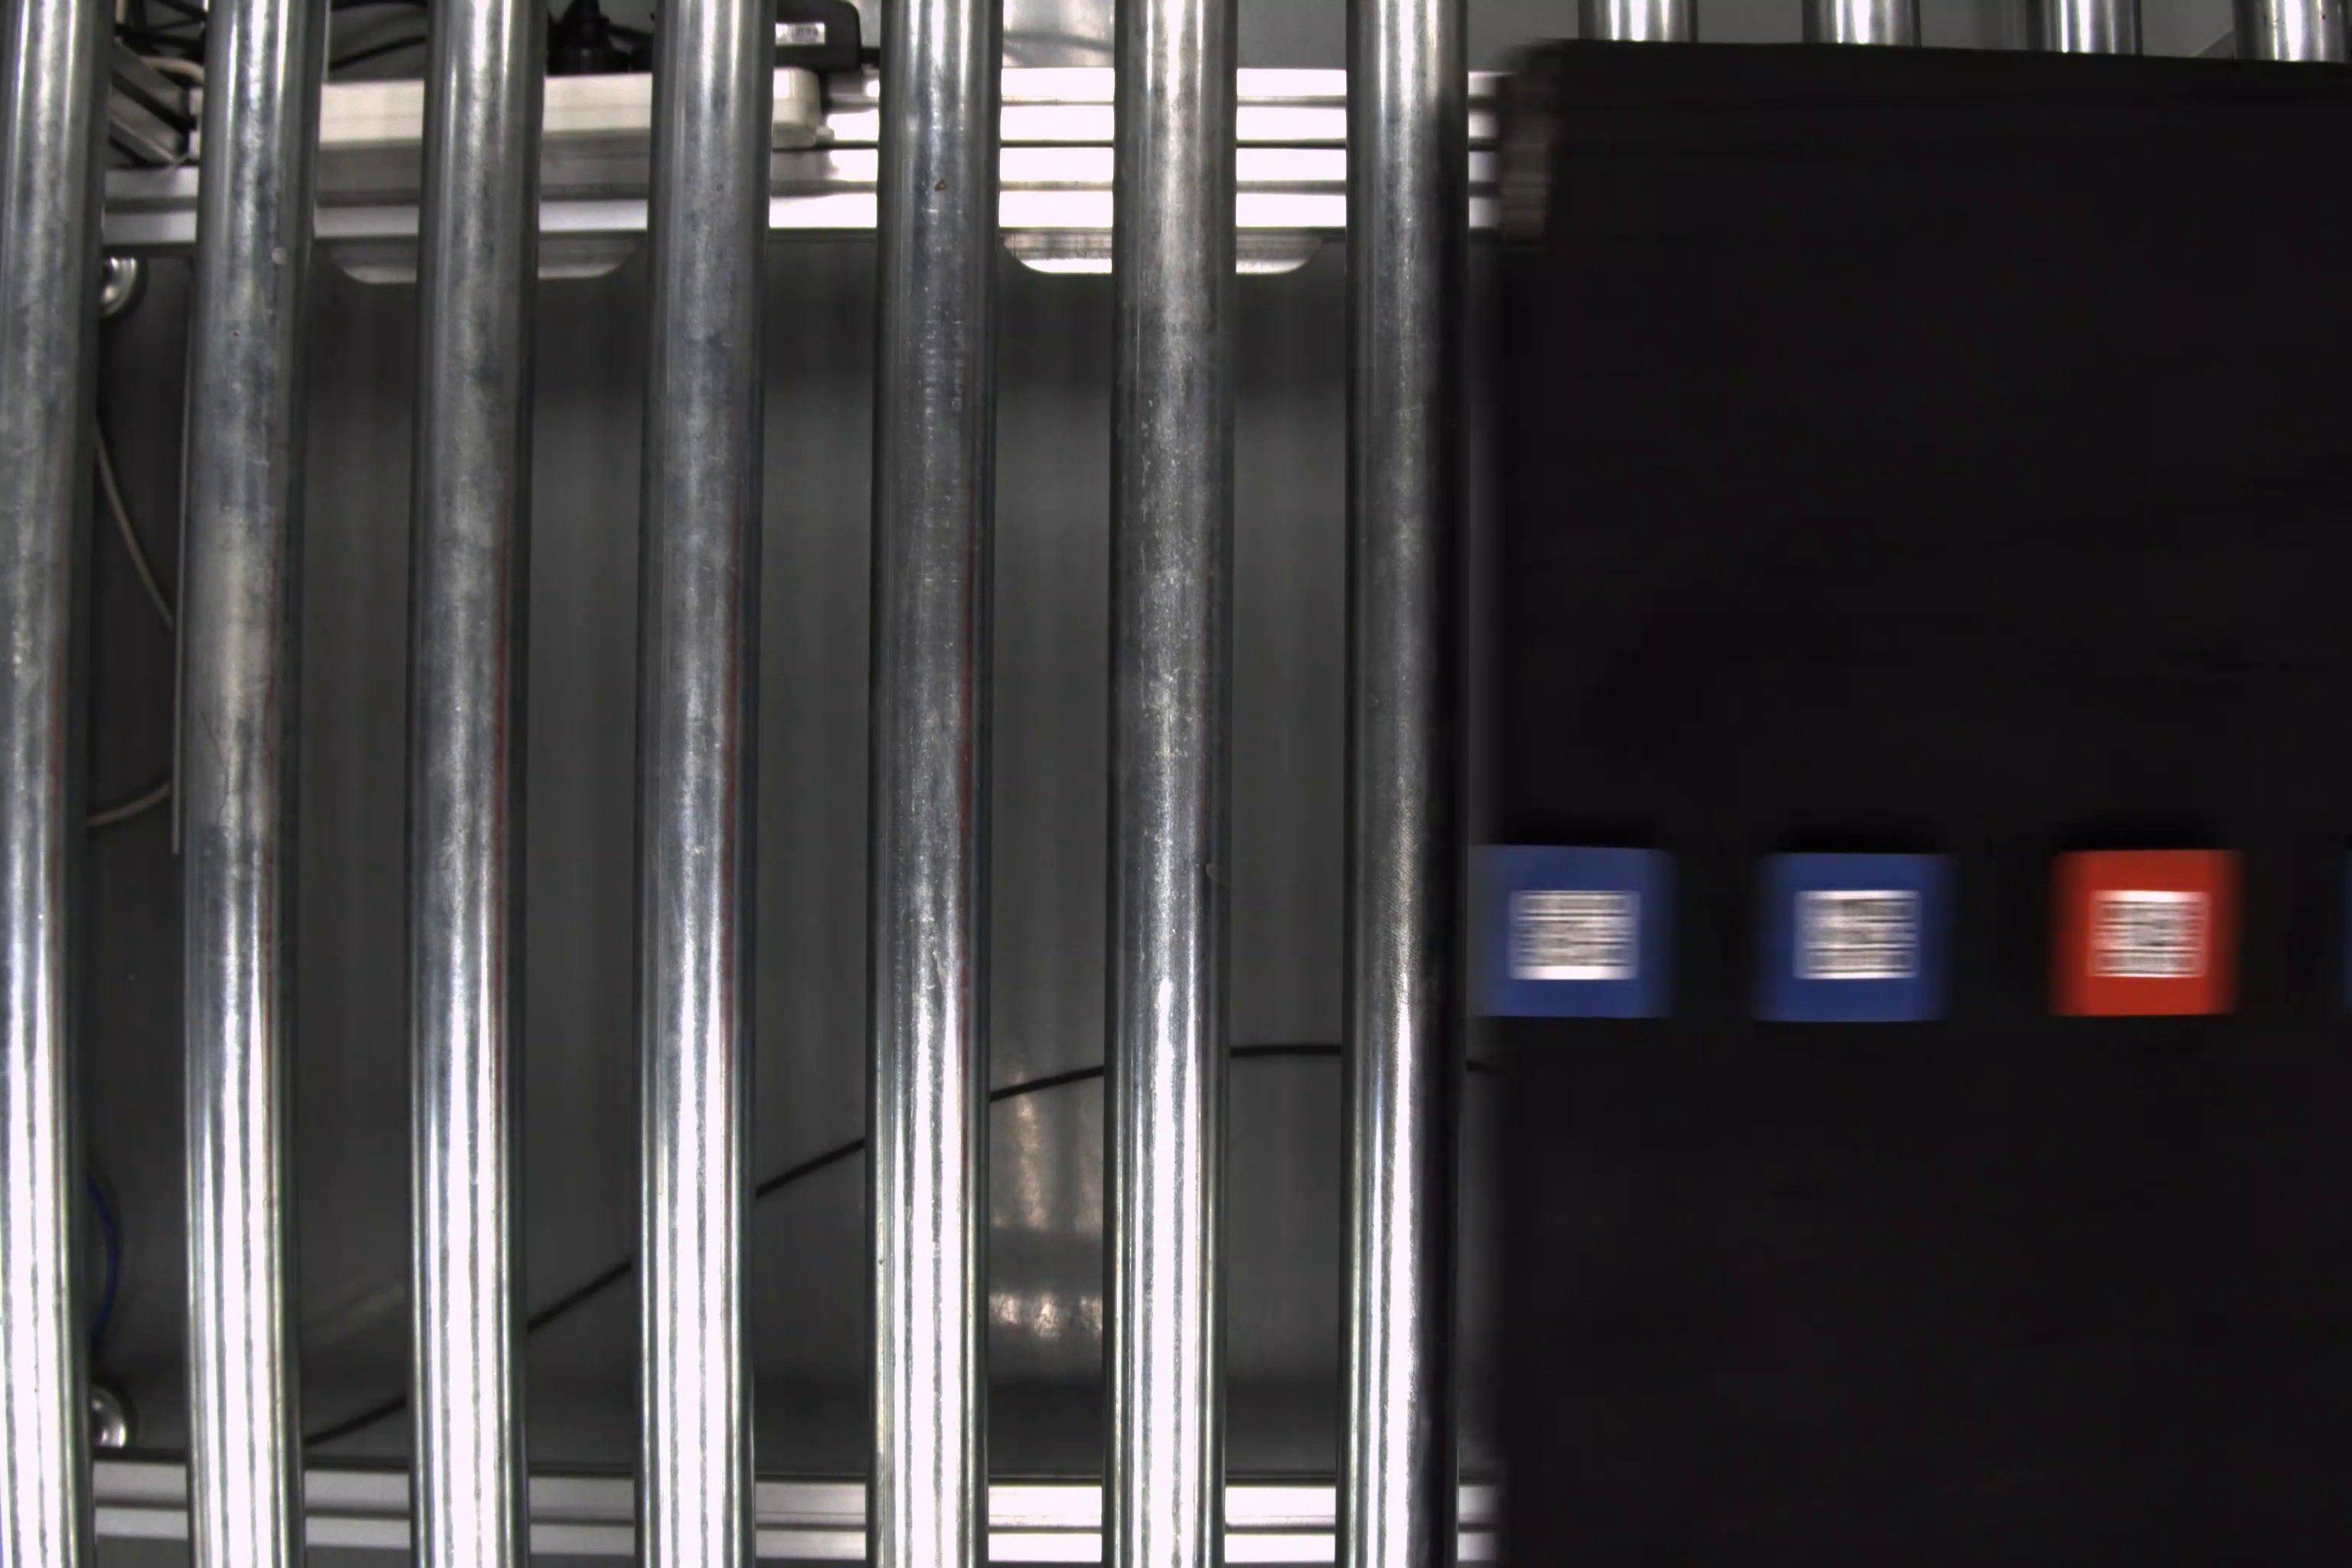wood: (1466, 836, 1675, 1022), (1752, 845, 1963, 1022), (2042, 847, 2247, 1015)
